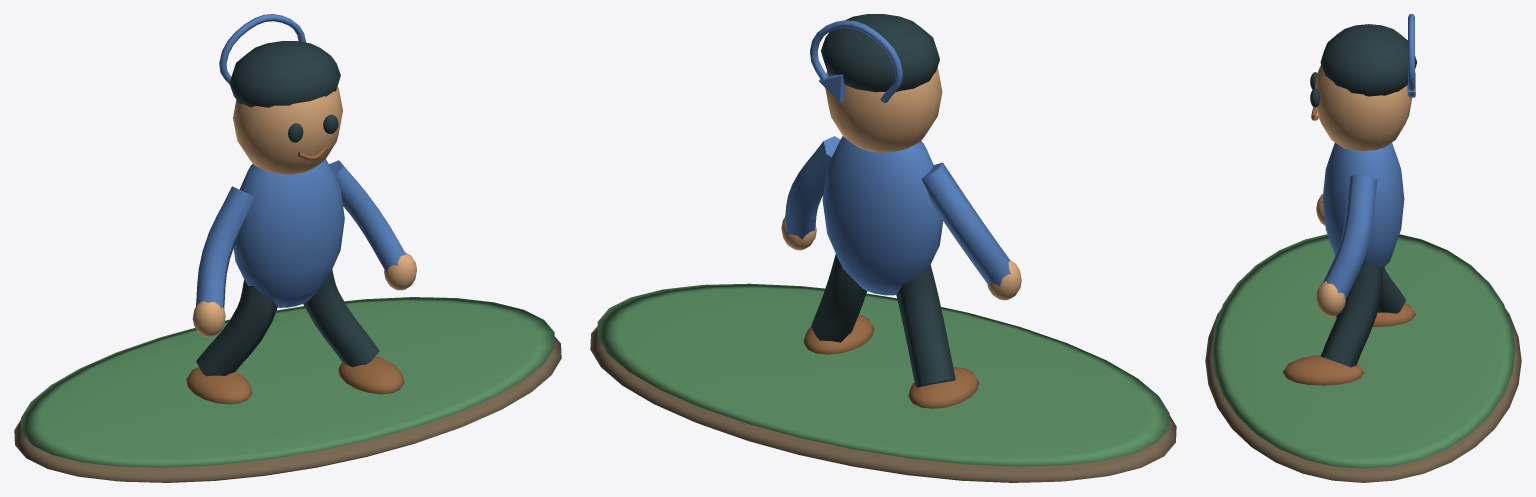
Rendered from complete-third-wandering-footsteps.glb.
3 renders of one model, left to right at view 1: azimuth 30°, elevation 25°; view 2: azimuth 150°, elevation 25°; view 3: azimuth 270°, elevation 25°, orthographic. The views are drawn at different scales.
Visible parts, largest first — view 1: complete-third-wandering-footsteps_surface_01, complete-third-wandering-footsteps_surface_05, complete-third-wandering-footsteps_surface_03, complete-third-wandering-footsteps_surface_00, complete-third-wandering-footsteps_surface_02, complete-third-wandering-footsteps_surface_04; view 2: complete-third-wandering-footsteps_surface_01, complete-third-wandering-footsteps_surface_05, complete-third-wandering-footsteps_surface_03, complete-third-wandering-footsteps_surface_00, complete-third-wandering-footsteps_surface_02, complete-third-wandering-footsteps_surface_04; view 3: complete-third-wandering-footsteps_surface_01, complete-third-wandering-footsteps_surface_05, complete-third-wandering-footsteps_surface_03, complete-third-wandering-footsteps_surface_00, complete-third-wandering-footsteps_surface_02, complete-third-wandering-footsteps_surface_04.
Part boxes in pixels (<box>): complete-third-wandering-footsteps_surface_01: <box>21,297,554,467</box>; complete-third-wandering-footsteps_surface_05: <box>196,14,406,308</box>; complete-third-wandering-footsteps_surface_03: <box>196,41,379,376</box>; complete-third-wandering-footsteps_surface_00: <box>14,336,561,482</box>; complete-third-wandering-footsteps_surface_02: <box>192,86,416,337</box>; complete-third-wandering-footsteps_surface_04: <box>186,145,404,404</box>; complete-third-wandering-footsteps_surface_01: <box>597,283,1169,466</box>; complete-third-wandering-footsteps_surface_05: <box>784,20,1010,295</box>; complete-third-wandering-footsteps_surface_03: <box>811,14,955,387</box>; complete-third-wandering-footsteps_surface_00: <box>590,326,1176,482</box>; complete-third-wandering-footsteps_surface_02: <box>781,67,1021,300</box>; complete-third-wandering-footsteps_surface_04: <box>803,314,979,408</box>; complete-third-wandering-footsteps_surface_01: <box>1211,234,1515,468</box>; complete-third-wandering-footsteps_surface_05: <box>1322,14,1415,300</box>; complete-third-wandering-footsteps_surface_03: <box>1310,24,1417,367</box>; complete-third-wandering-footsteps_surface_00: <box>1205,309,1521,482</box>; complete-third-wandering-footsteps_surface_02: <box>1315,65,1411,316</box>; complete-third-wandering-footsteps_surface_04: <box>1283,107,1415,385</box>.
Bounding box in the file's own units: 4.56 × 3.13 × 2.5.
